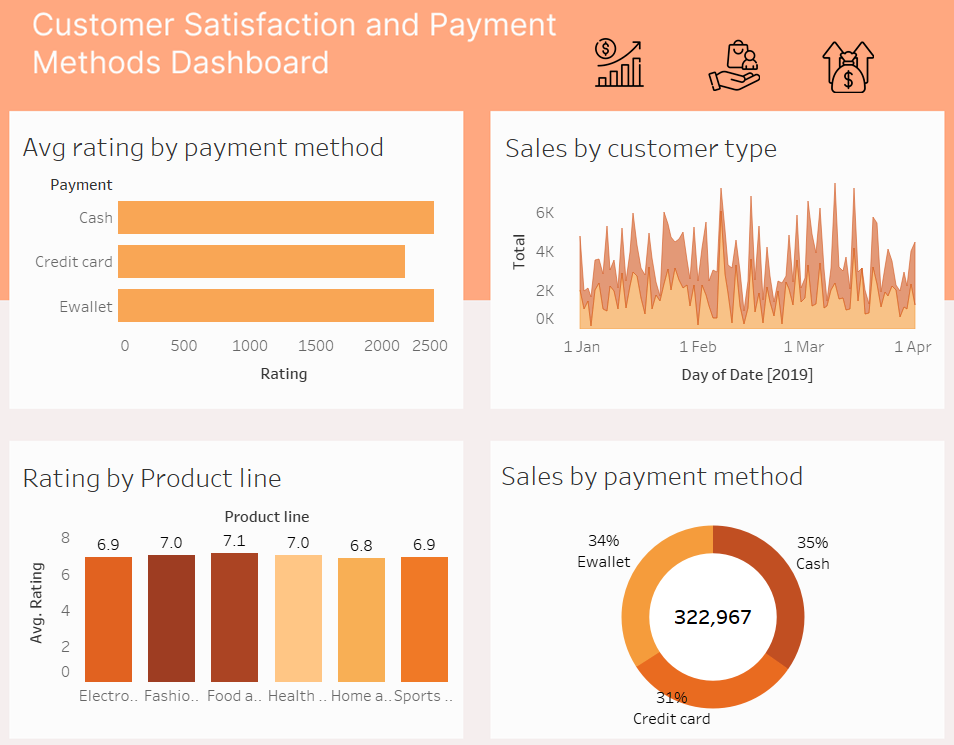

This screenshot's page, from the dashboard's own definition file:
{"tool":"tableau","page":{"name":"Customer Satisfaction and Payment Methods Dashboard","canvas":[1000,800],"ordinal":0},"visuals":[{"type":"image","param":"C:/Users/MEGHANA L/Downloads/customer and payment (2).png","box":[8,8,984,784]},{"type":"dashboard-object","box":[602,65,89,52]},{"type":"dashboard-object","box":[719,68,85,52]},{"type":"dashboard-object","box":[832,70,86,52]},{"type":"worksheet","title":"Avg rating by payment method","mark":"Automatic","rows":["Payment"],"cols":["Rating"],"box":[45,154,432,266]},{"type":"worksheet","title":"Sales by customer type","mark":"Area","rows":["Total"],"cols":["Date"],"box":[528,155,433,266]},{"type":"worksheet","title":"Sales by payment method","mark":"Pie","rows":["Calculation_1230890102455754756","Calculation_1230890102455754756"],"box":[524,483,432,276]},{"type":"worksheet","title":"Rating by Product line","mark":"Bar","rows":["Rating"],"cols":["Product line"],"box":[45,485,438,266]}]}

Visuals, with their boxes in screenshot pixels (x1, y1, x2, y2), scaled from the page's 1000x800 canvas onto the 954x745 screenshot:
image: rect(8, 7, 946, 738)
dashboard-object: rect(574, 61, 659, 109)
dashboard-object: rect(686, 63, 767, 112)
dashboard-object: rect(794, 65, 876, 114)
"Avg rating by payment method" worksheet: rect(43, 143, 455, 391)
"Sales by customer type" worksheet (Area marks): rect(504, 144, 917, 392)
"Sales by payment method" worksheet (Pie marks): rect(500, 450, 912, 707)
"Rating by Product line" worksheet (Bar marks): rect(43, 452, 461, 699)
